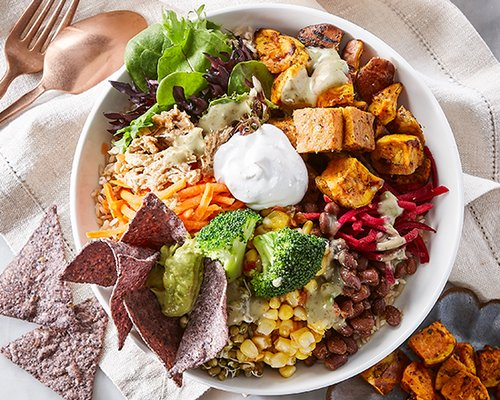curry: (246, 227, 327, 299), (193, 208, 262, 282)
